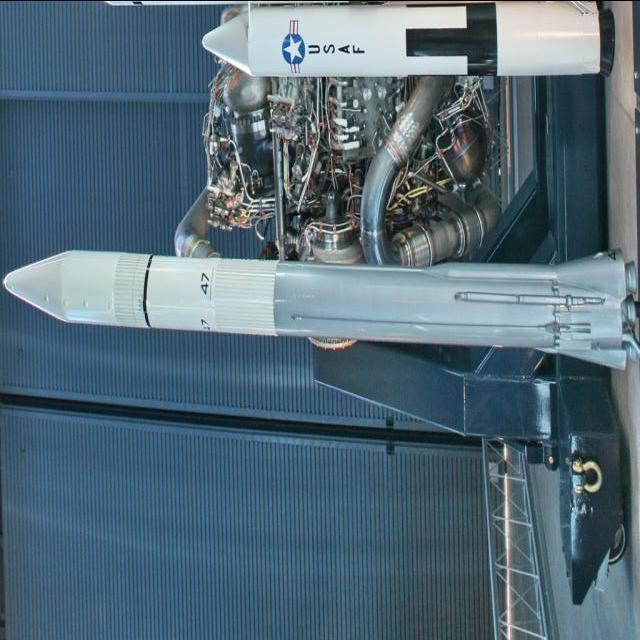missile: (2, 238, 636, 380), (192, 4, 618, 83)
